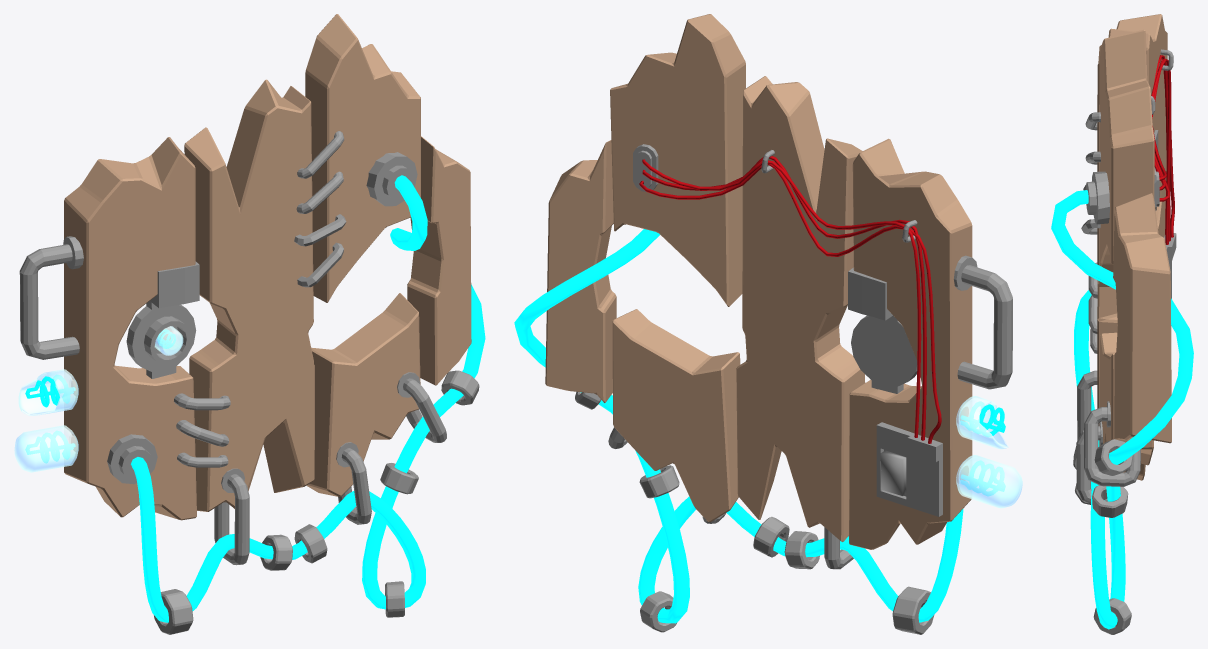
The picture shows the model from 3 angles, left to right: view 1: azimuth 30°, elevation 25°; view 2: azimuth 150°, elevation 25°; view 3: azimuth 270°, elevation 25°; orthographic projection. The views are drawn at different scales.
Visible parts, largest first — view 1: Cube, Cylinder.006, BezierCurve, tooth_ring.004, Cylinder, Cylinder.008, BezierCurve.001; view 2: Cube, BezierCurve, Cylinder.006, Cylinder, tooth_ring.004, Cube.001, Cylinder.008, BezierCurve.002, BezierCurve.004, BezierCurve.003, BezierCurve.001; view 3: Cube, BezierCurve, Cylinder.006, tooth_ring.004, BezierCurve.004, BezierCurve.002, BezierCurve.003, Cube.001.
Boxes of the visible parts, box(x1,y1,x2,y2) form: Cube: box(64, 14, 471, 520); Cylinder.006: box(19, 131, 446, 565); BezierCurve: box(131, 175, 485, 622); tooth_ring.004: box(154, 370, 479, 634); Cylinder: box(126, 261, 199, 378); Cylinder.008: box(14, 326, 183, 472); BezierCurve.001: box(25, 375, 75, 462); Cube: box(545, 14, 972, 549); BezierCurve: box(514, 229, 963, 623); Cylinder.006: box(608, 144, 1012, 569); Cylinder: box(848, 267, 917, 393); tooth_ring.004: box(575, 391, 934, 634); Cube.001: box(876, 422, 942, 516); Cylinder.008: box(956, 396, 1022, 508); BezierCurve.002: box(639, 164, 941, 443); BezierCurve.004: box(642, 159, 921, 437); BezierCurve.003: box(642, 156, 926, 440); BezierCurve.001: box(960, 401, 1005, 495); Cube: box(1097, 14, 1171, 480); BezierCurve: box(1051, 190, 1193, 629); Cylinder.006: box(1076, 112, 1159, 503); tooth_ring.004: box(1073, 439, 1133, 634); BezierCurve.004: box(1151, 58, 1171, 244); BezierCurve.002: box(1152, 59, 1174, 237); BezierCurve.003: box(1153, 55, 1170, 241); Cube.001: box(1164, 233, 1176, 298).
Bounding box in the file's own units: 581 × 712 × 158.
